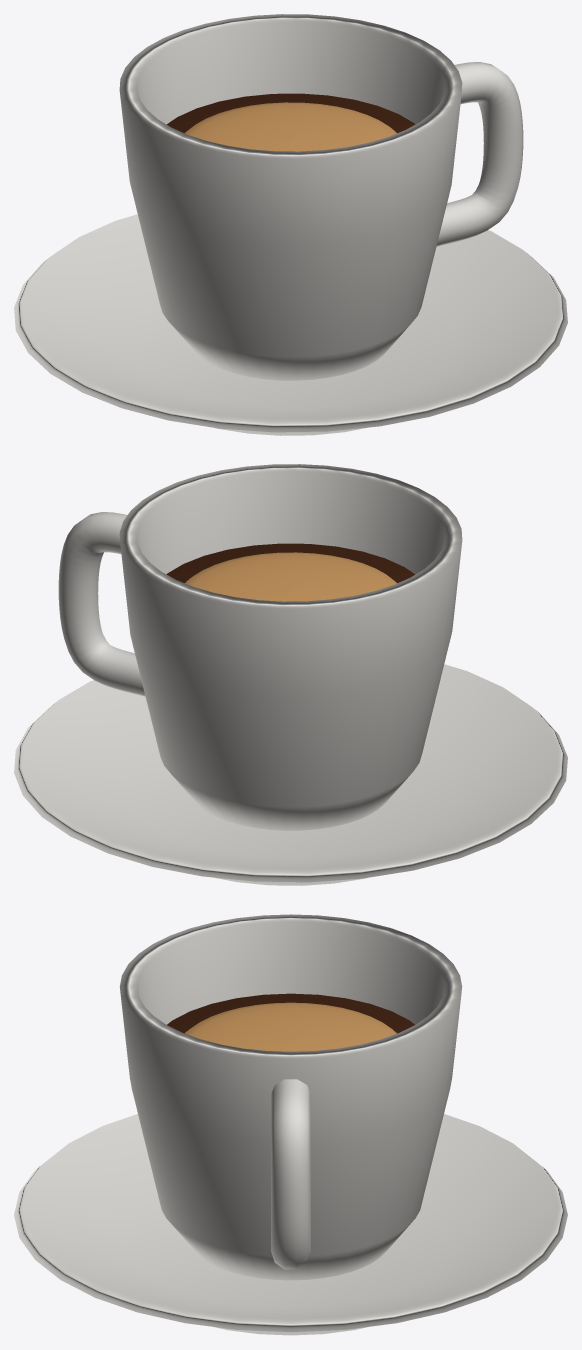
The model's file is alba-espresso.glb.
The picture shows the model from 3 angles, top to bottom: view 1: azimuth 30°, elevation 25°; view 2: azimuth 150°, elevation 25°; view 3: azimuth 270°, elevation 25°; orthographic projection.
Size of the model in its own units: 0.11 by 0.061 by 0.11.
